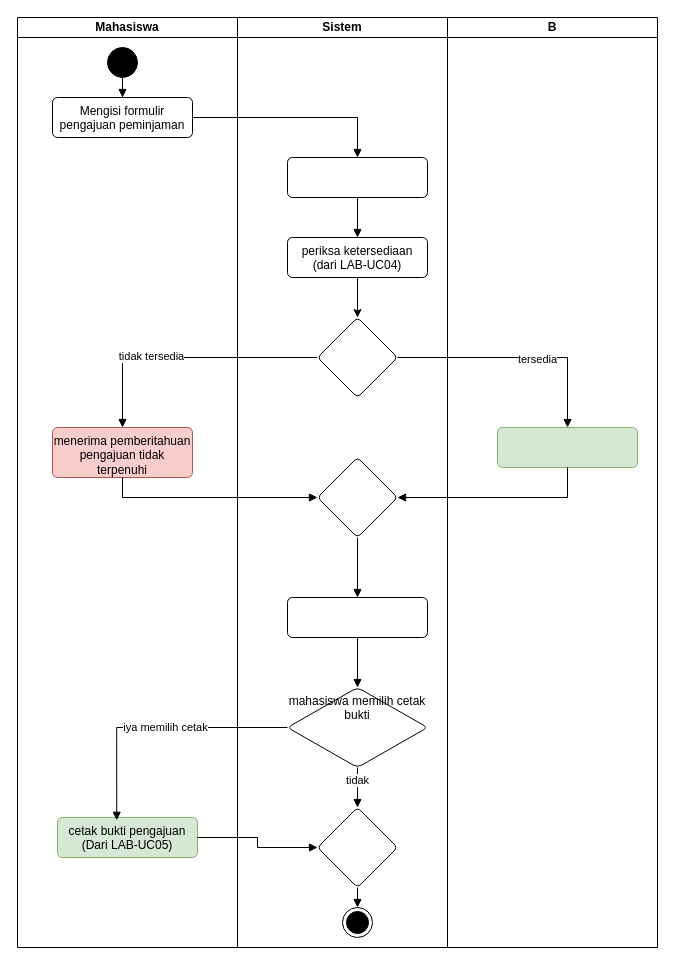
The diagram is 675 pixels wide and 965 high, and some of its shapes have lost their labels. The centre of each missing label's shape, as x and y in pixels:
memperoses keputusan peminjaman: the point at 567,447
mencatat hasil akhir pengajuan: the point at 357,617
menyimpan data pengajuan peminjaman: the point at 357,177
Peralatan tersedia?: the point at 357,357
